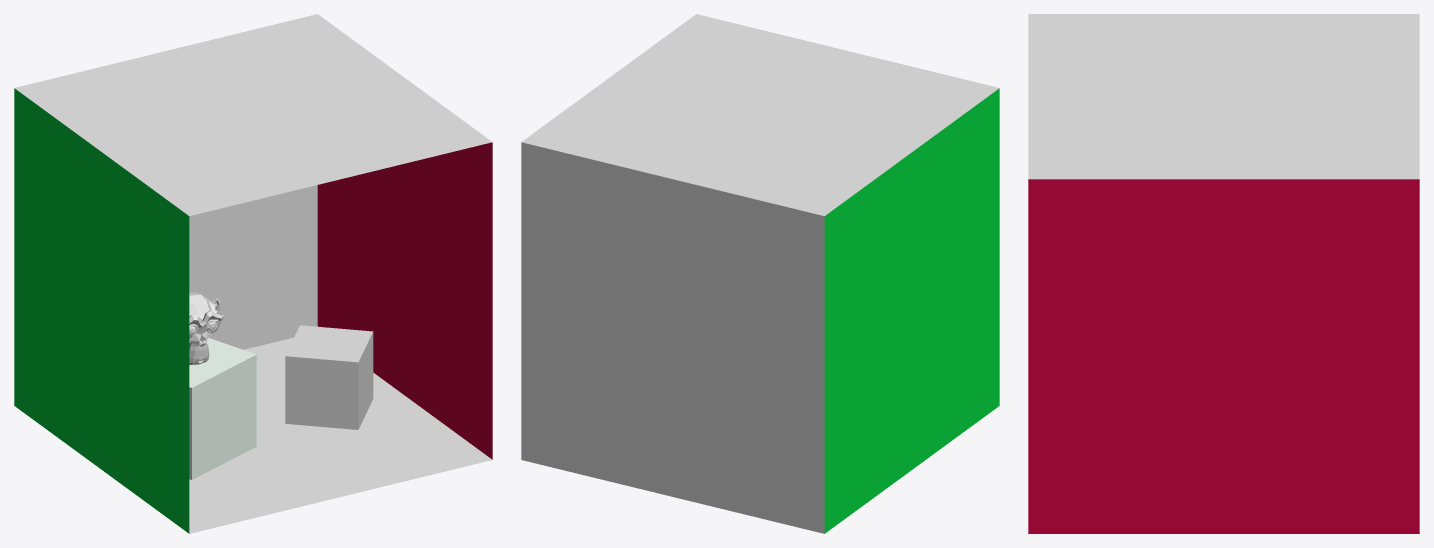
The model's file is cornell.glb.
3 views of the same model, side by side, from view 1: azimuth 30°, elevation 25°; view 2: azimuth 150°, elevation 25°; view 3: azimuth 270°, elevation 25° (orthographic). The views are drawn at different scales.
Visible parts, largest first — view 1: Plane, Plane.002, Plane.001, Cube.001, Cube, Suzanne; view 2: Plane, Plane.002; view 3: Plane.001, Plane.
Part boxes in pixels (left/top/right/bottom): Plane: left=14, top=14, right=492, bottom=533; Plane.002: left=14, top=88, right=189, bottom=533; Plane.001: left=317, top=142, right=492, bottom=459; Cube.001: left=285, top=325, right=373, bottom=429; Cube: left=189, top=338, right=256, bottom=479; Suzanne: left=189, top=292, right=224, bottom=364; Plane: left=521, top=14, right=999, bottom=533; Plane.002: left=824, top=88, right=999, bottom=533; Plane.001: left=1028, top=179, right=1419, bottom=533; Plane: left=1028, top=14, right=1419, bottom=179.
Bounding box in the file's own units: 2 × 2.01 × 2.
